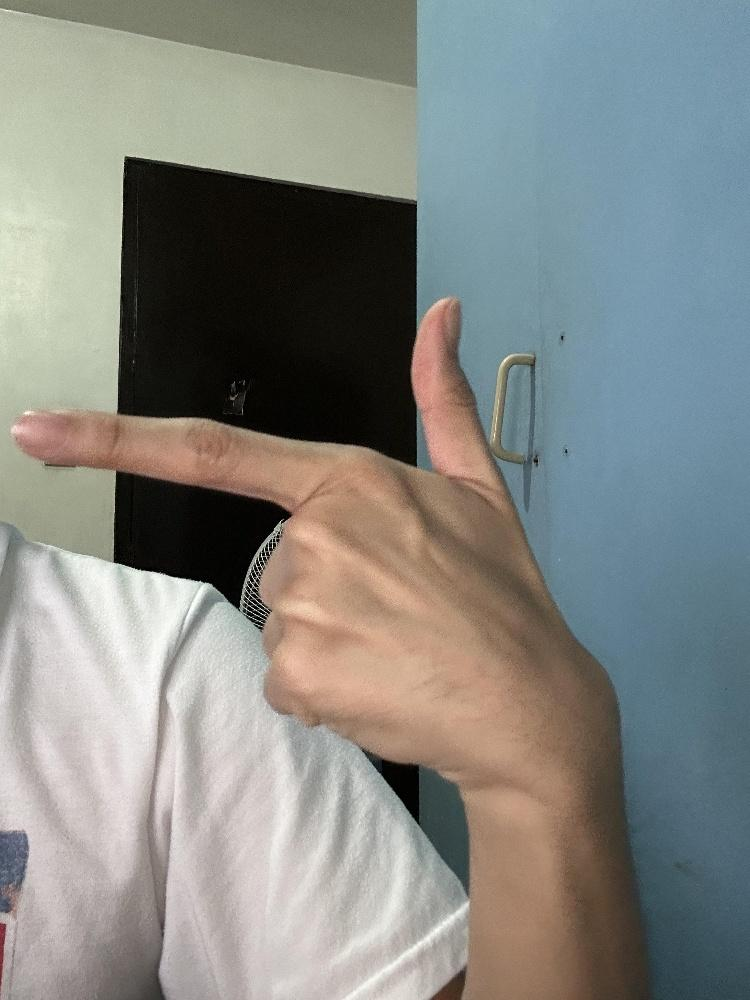g: (7, 287, 625, 805)
